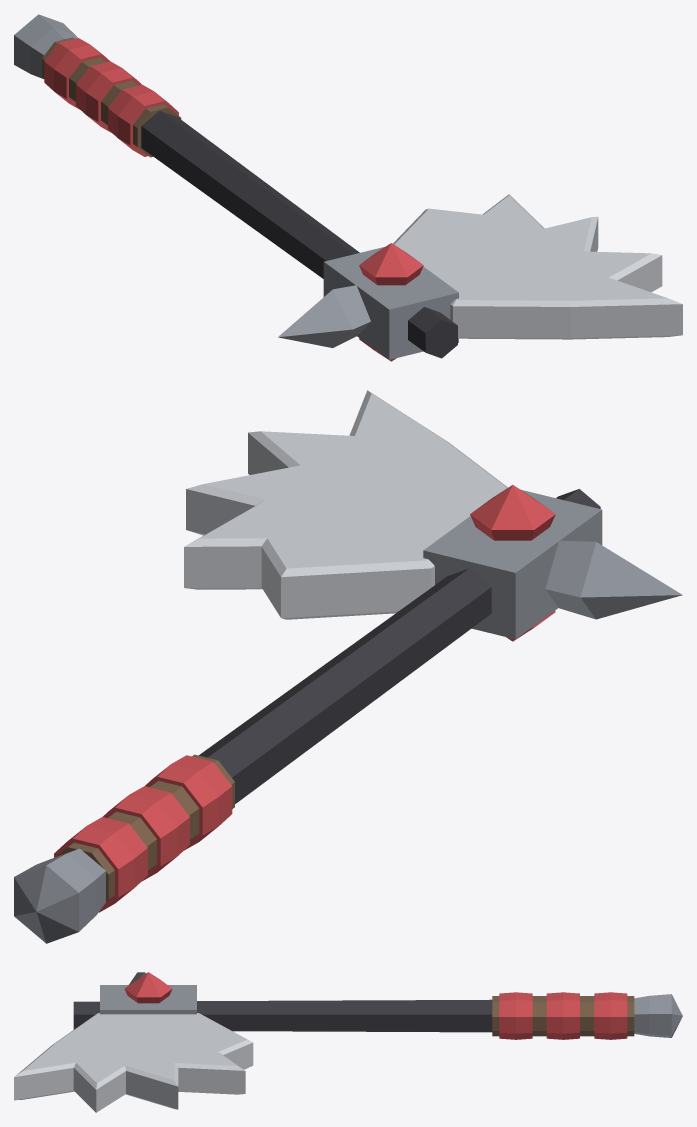
File: cinderbite.glb
3 views of the same model, one above another, from view 1: azimuth 30°, elevation 25°; view 2: azimuth 150°, elevation 25°; view 3: azimuth 270°, elevation 25° (orthographic). The views are drawn at different scales.
Parts seen in each view (by area): view 1: cinderbite; view 2: cinderbite; view 3: cinderbite.
Part boxes in pixels (bbox=[...]): cinderbite: bbox=[14, 14, 682, 361]; cinderbite: bbox=[14, 390, 682, 943]; cinderbite: bbox=[14, 972, 682, 1112].
Bounding box in the file's own units: 0.4089 × 0.13 × 0.895.
